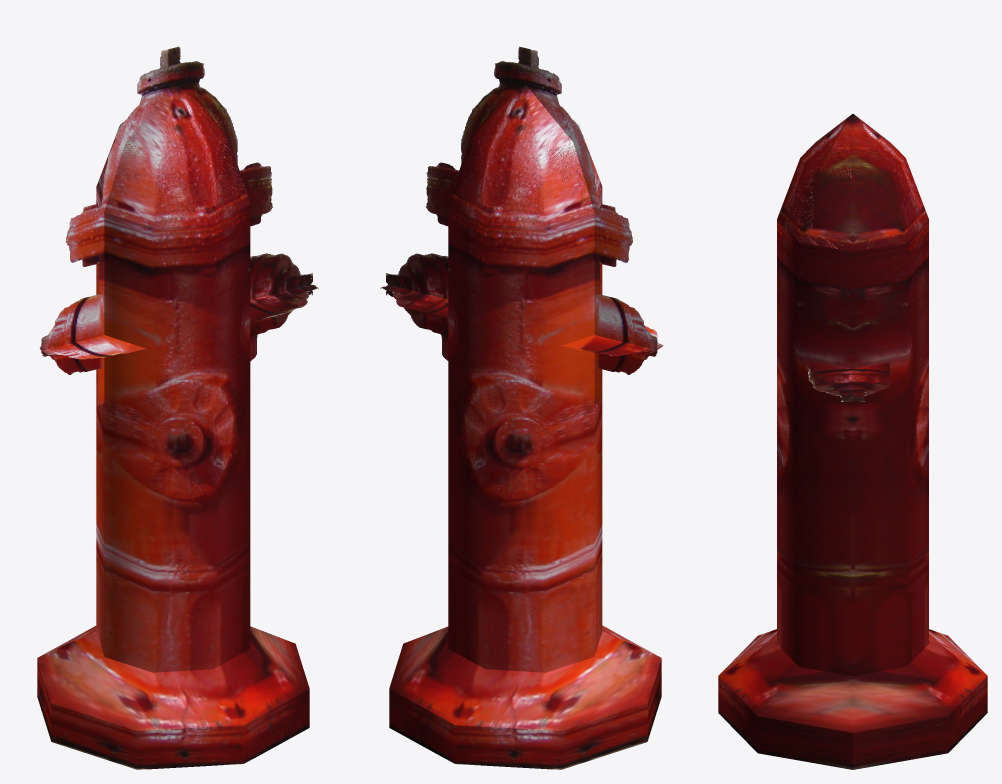
Rendered from firehydrant.dae.
The picture shows the model from 3 angles, left to right: view 1: azimuth 30°, elevation 25°; view 2: azimuth 150°, elevation 25°; view 3: azimuth 270°, elevation 25°; orthographic projection. The views are drawn at different scales.
Parts seen in each view (by area): view 1: group_0, group_2, group_1, group_3; view 2: group_0, group_2, group_1, group_3; view 3: group_0, group_3.
Part boxes in pixels (x1,y1,x2,y2): group_0: [37, 84, 309, 769]; group_2: [65, 46, 272, 291]; group_1: [41, 253, 312, 404]; group_3: [39, 284, 318, 359]; group_0: [389, 84, 661, 769]; group_2: [426, 46, 632, 291]; group_1: [386, 253, 657, 404]; group_3: [380, 284, 663, 356]; group_0: [718, 114, 987, 769]; group_3: [806, 361, 889, 401].
Size of the model in its own units: 20.69 by 18.11 by 47.05.
1 material, 1 textured.
